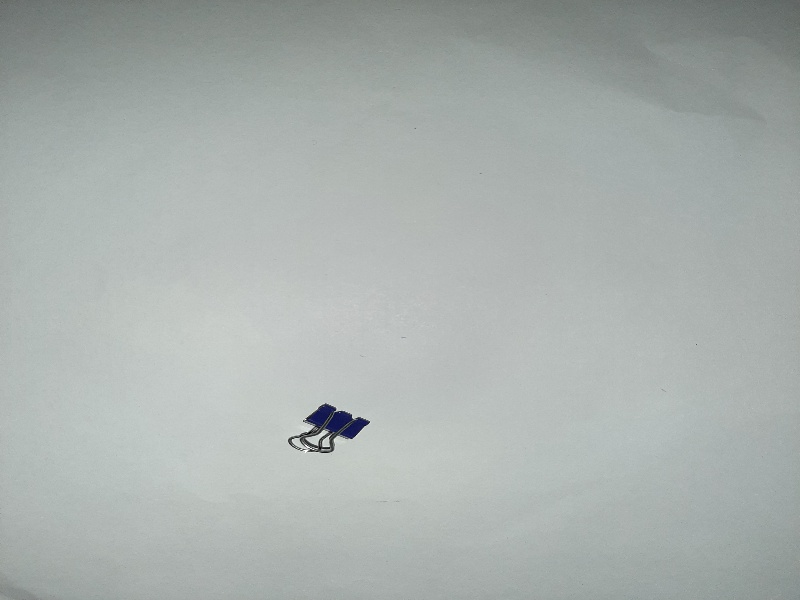Small Paperclip: (286, 393, 373, 463)
